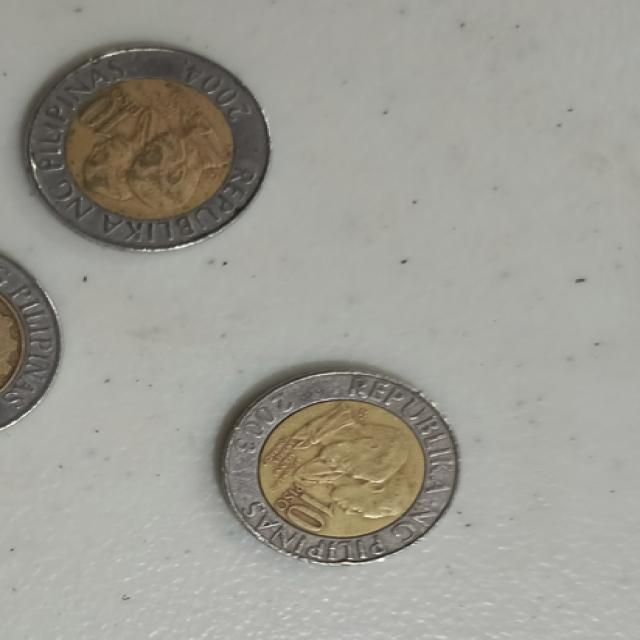10_peso: (28, 49, 267, 250), (224, 371, 457, 564)
